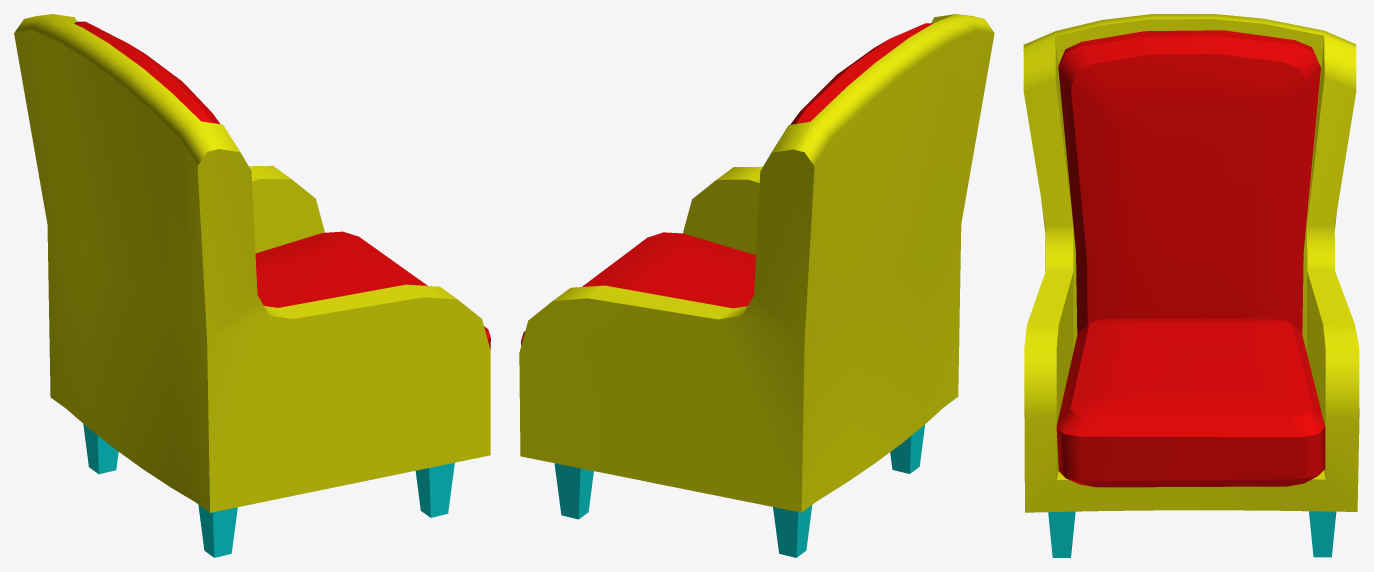
File: LivingRoom_Armchair_1.fbx
3 views of the same model, side by side, from view 1: azimuth 30°, elevation 25°; view 2: azimuth 150°, elevation 25°; view 3: azimuth 270°, elevation 25° (orthographic). The views are drawn at different scales.
Parts seen in each view (by area): view 1: LivingRoom_Armchair_1; view 2: LivingRoom_Armchair_1; view 3: LivingRoom_Armchair_1.
Boxes of the visible parts, left/top/right/bottom form: LivingRoom_Armchair_1: left=14, top=14, right=490, bottom=557; LivingRoom_Armchair_1: left=519, top=14, right=994, bottom=557; LivingRoom_Armchair_1: left=1023, top=14, right=1359, bottom=557.
Bounding box in the file's own units: 118 × 161 × 115.
